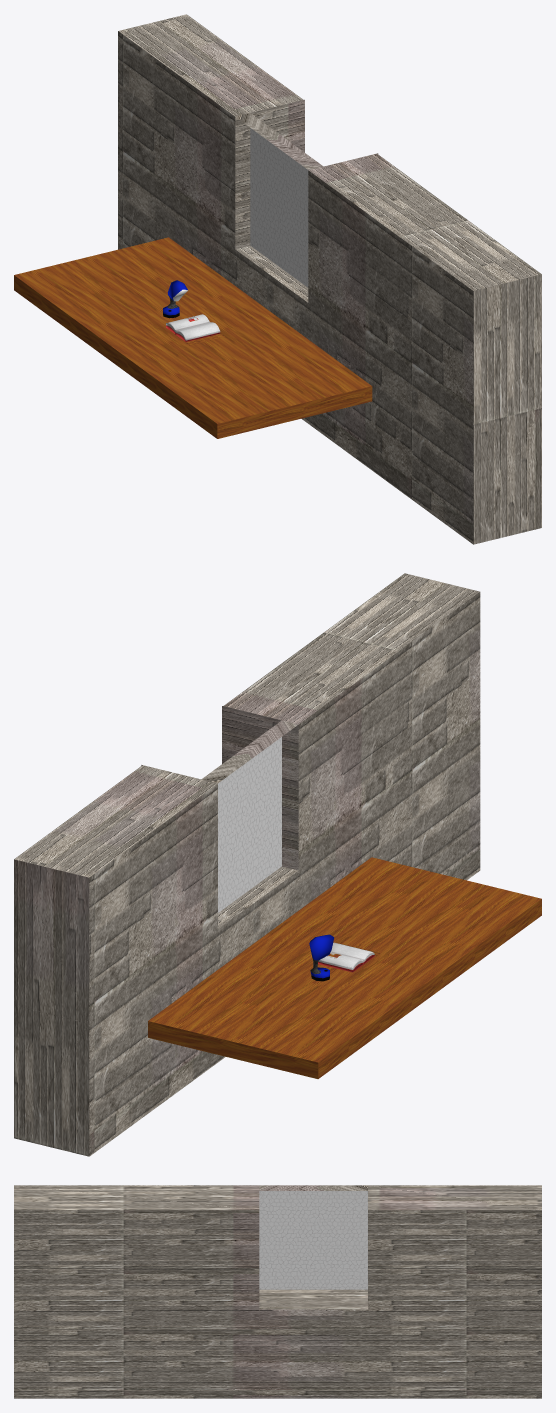
The model's file is libro para menu.fbx.
3 renders of one model, top to bottom at view 1: azimuth 30°, elevation 25°; view 2: azimuth 150°, elevation 25°; view 3: azimuth 270°, elevation 25°, orthographic. The views are drawn at different scales.
Visible parts, largest first — view 1: Cube.004, Cube.002, libro; view 2: Cube.004, Cube.002, libro, Cube.003; view 3: Cube.004.
Part boxes in pixels (x1=…): Cube.004: x1=118, y1=14, x2=541, y2=544; Cube.002: x1=14, y1=237, x2=372, y2=438; libro: x1=166, y1=314, x2=220, y2=341; Cube.004: x1=14, y1=573, x2=480, y2=1156; Cube.002: x1=148, y1=857, x2=541, y2=1078; libro: x1=318, y1=942, x2=374, y2=972; Cube.003: x1=309, y1=934, x2=334, y2=981; Cube.004: x1=14, y1=1185, x2=541, y2=1398.
Size of the model in its own units: 4243 by 4552 by 11557.
